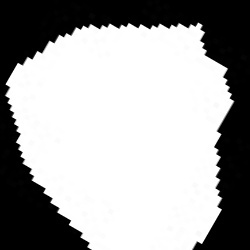spot: (4, 23, 233, 248)
